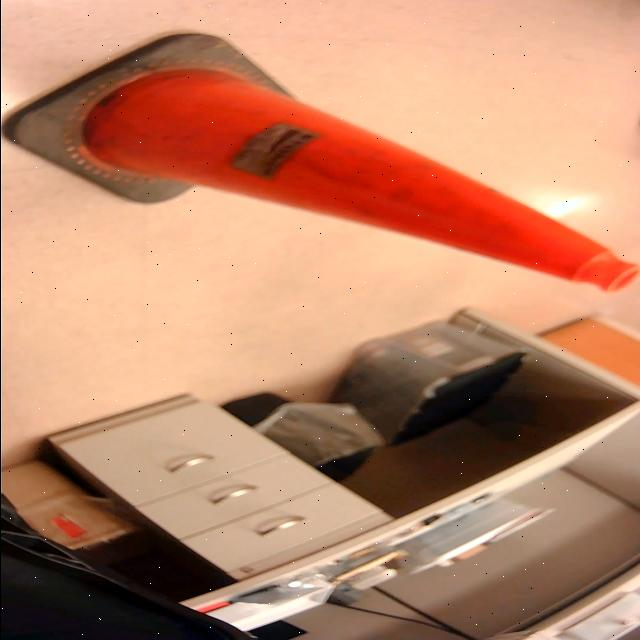traffic cone: (1, 29, 640, 299)
